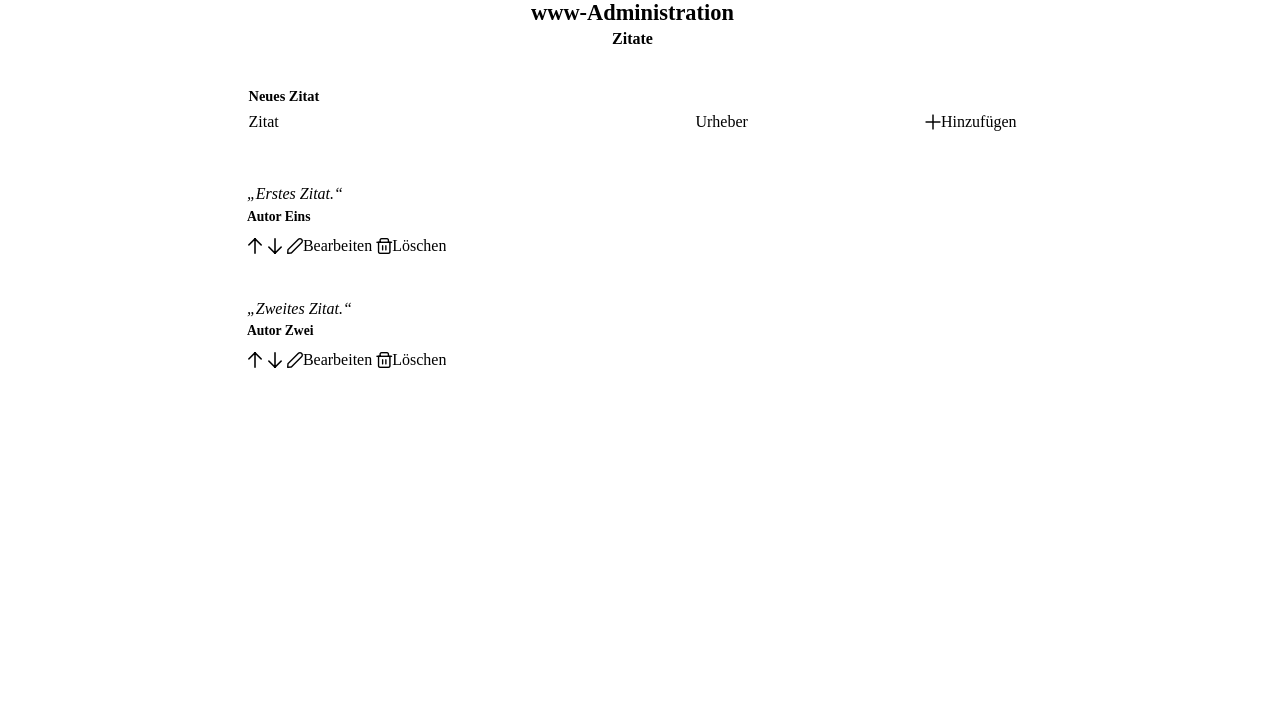
Test: QuotesAdminView › refreshed list, failures, limits and row names › shows the list as the API returns it after saving an edit
Click the button "Bearbeiten" below "Autor Eins": (330, 246) [287,237,372,255]
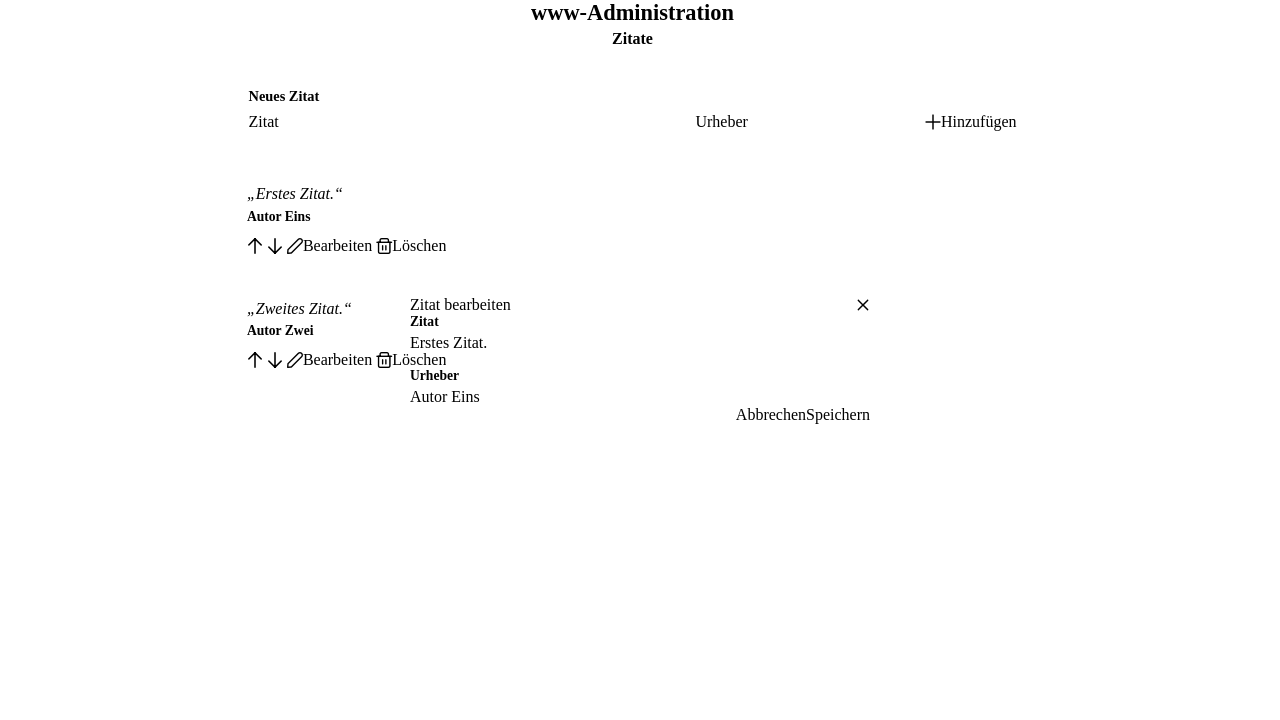
Click the button "Speichern": (838, 415) [806,406,870,424]
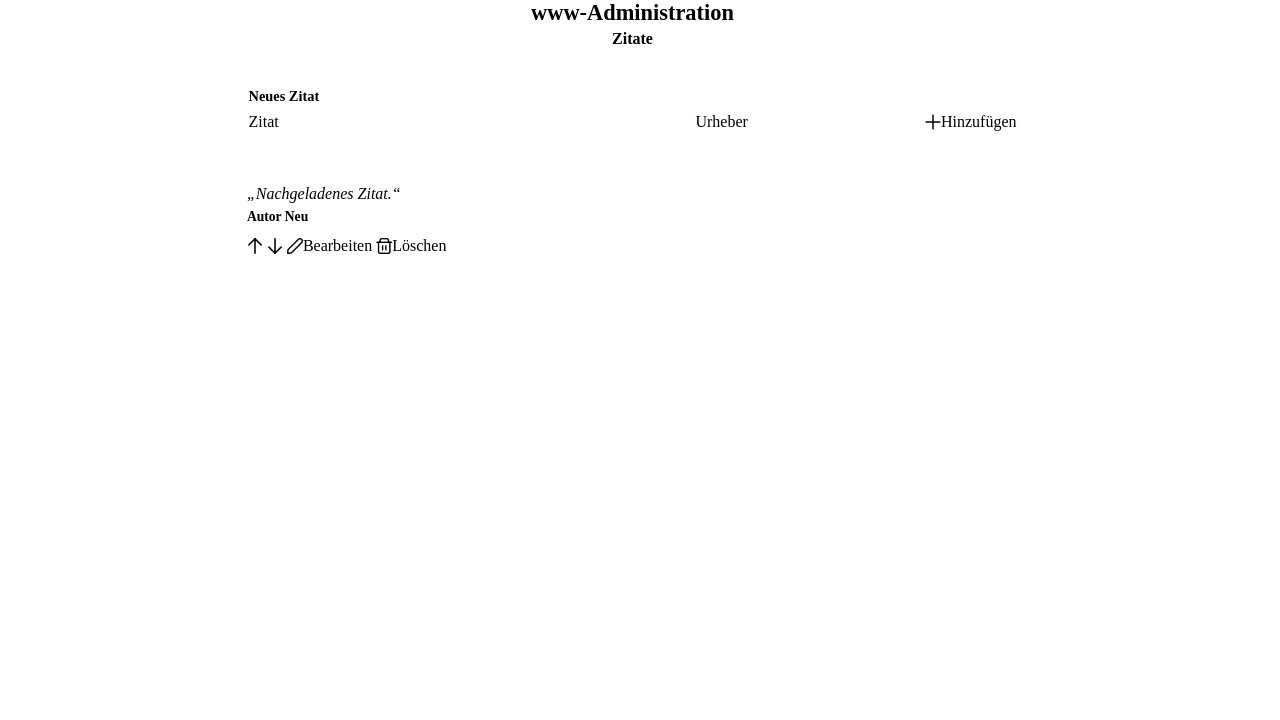
Now the text "Nachgeladenes Zitat." is shown, box [247,185,401,202]
Now the text "Erstes Zitat." is gone
